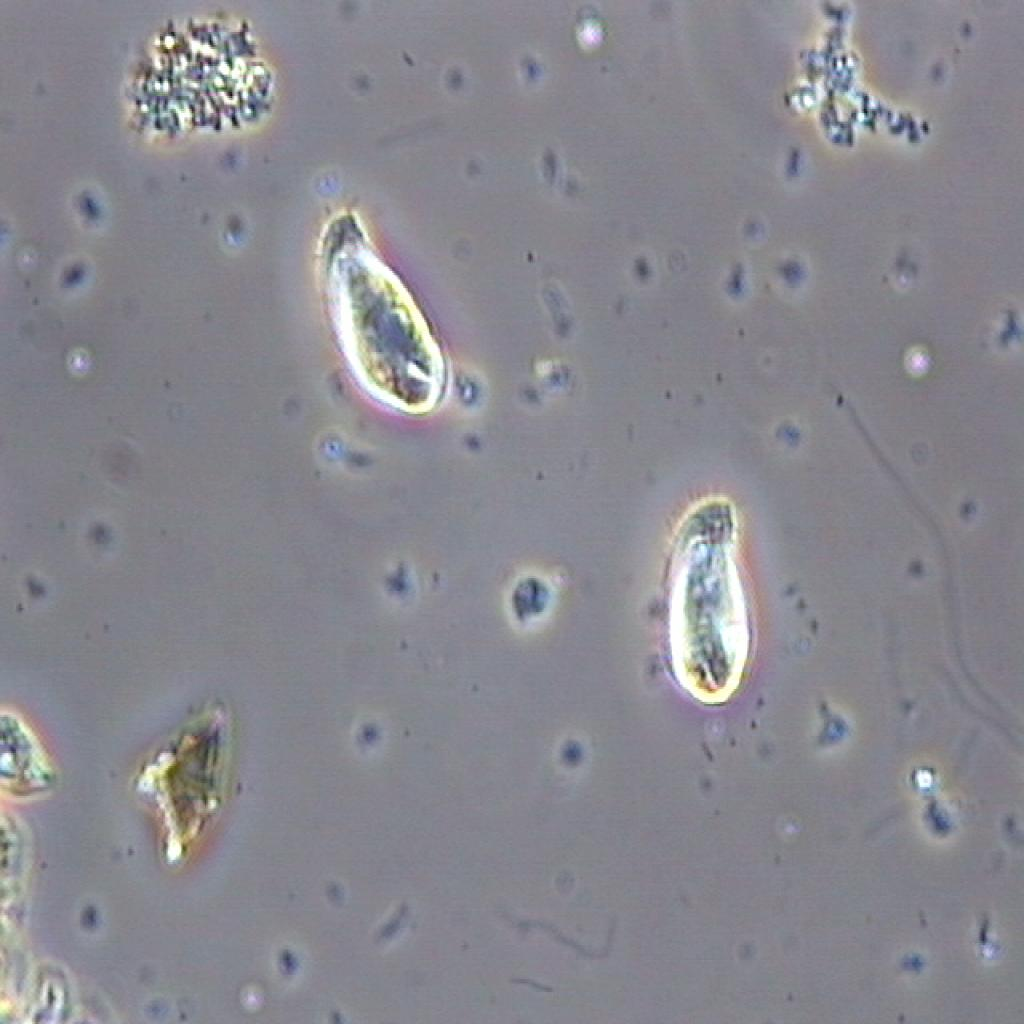Chilodonella: (310, 195, 486, 419), (660, 472, 753, 714)
